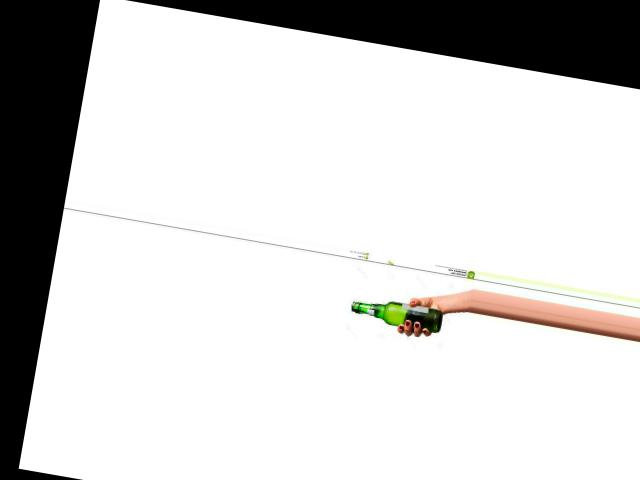beer: (349, 293, 443, 332)
